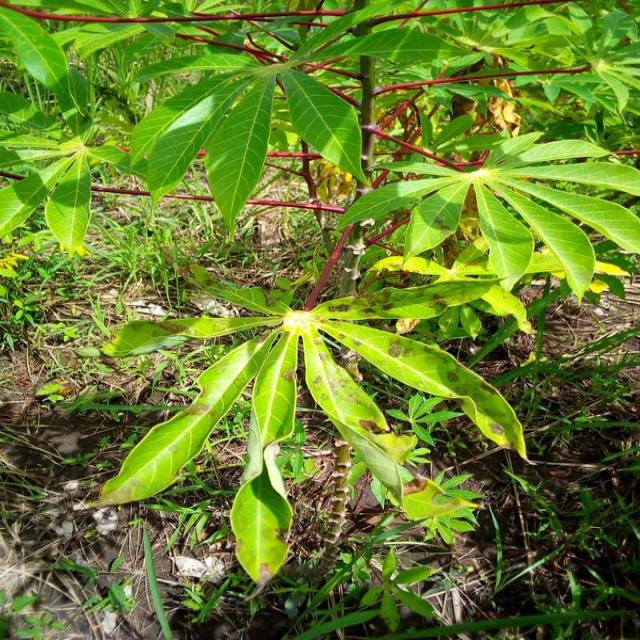cassava leaf: (93, 264, 529, 586), (280, 65, 368, 188)
